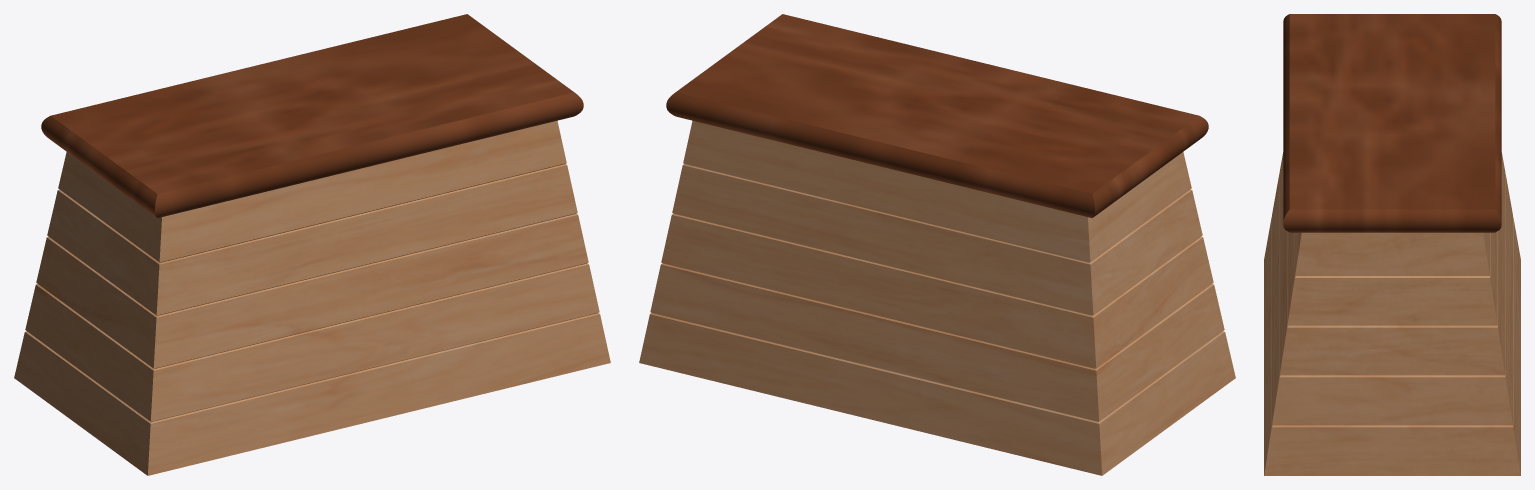
The model's file is kast.fbx.
3 renders of one model, left to right at view 1: azimuth 30°, elevation 25°; view 2: azimuth 150°, elevation 25°; view 3: azimuth 270°, elevation 25°, orthographic. The views are drawn at different scales.
Parts seen in each view (by area): view 1: Kast; view 2: Kast; view 3: Kast.
Part boxes in pixels (x1=…): Kast: x1=14, y1=14, x2=610, y2=475; Kast: x1=639, y1=14, x2=1235, y2=475; Kast: x1=1264, y1=14, x2=1520, y2=475.
Size of the model in its own units: 1 by 1.1 by 2.
